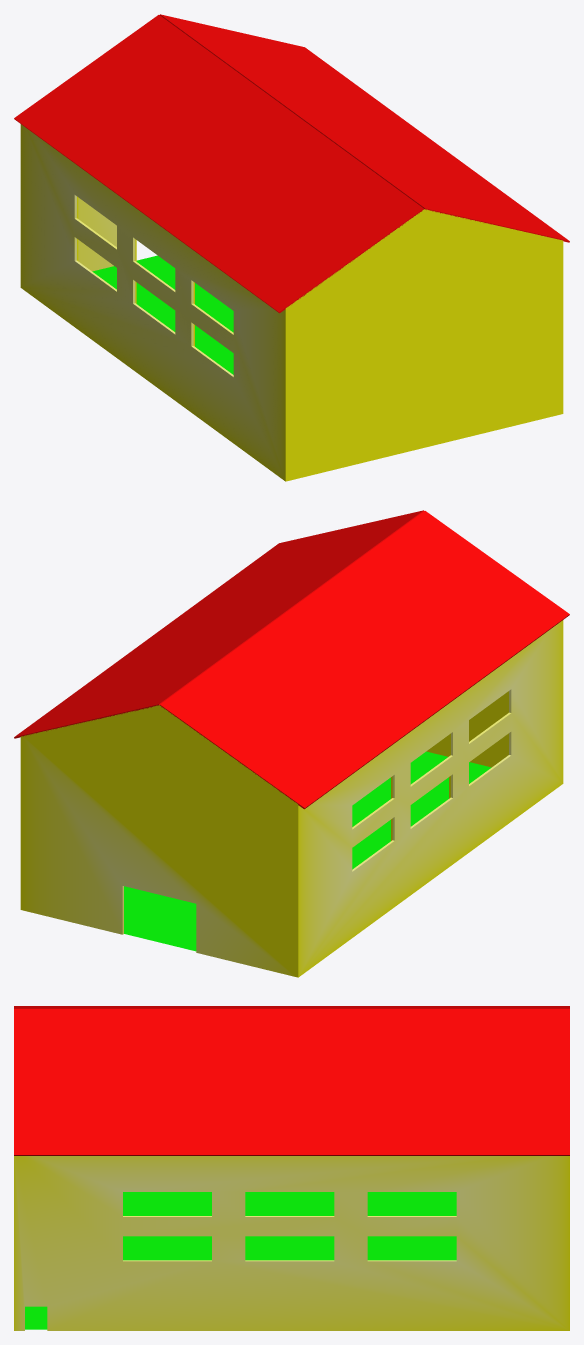
File: Warehouse_Structure.fbx
3 renders of one model, top to bottom at view 1: azimuth 30°, elevation 25°; view 2: azimuth 150°, elevation 25°; view 3: azimuth 270°, elevation 25°, orthographic. The views are drawn at different scales.
Parts seen in each view (by area): view 1: uvlayout1; view 2: uvlayout1; view 3: uvlayout1.
Boxes of the visible parts, x1,y1,x2,y2 form: uvlayout1: (14, 14, 569, 481); uvlayout1: (14, 510, 569, 977); uvlayout1: (14, 1006, 569, 1330).
Bounding box in the file's own units: 41.19 × 32.38 × 65.
